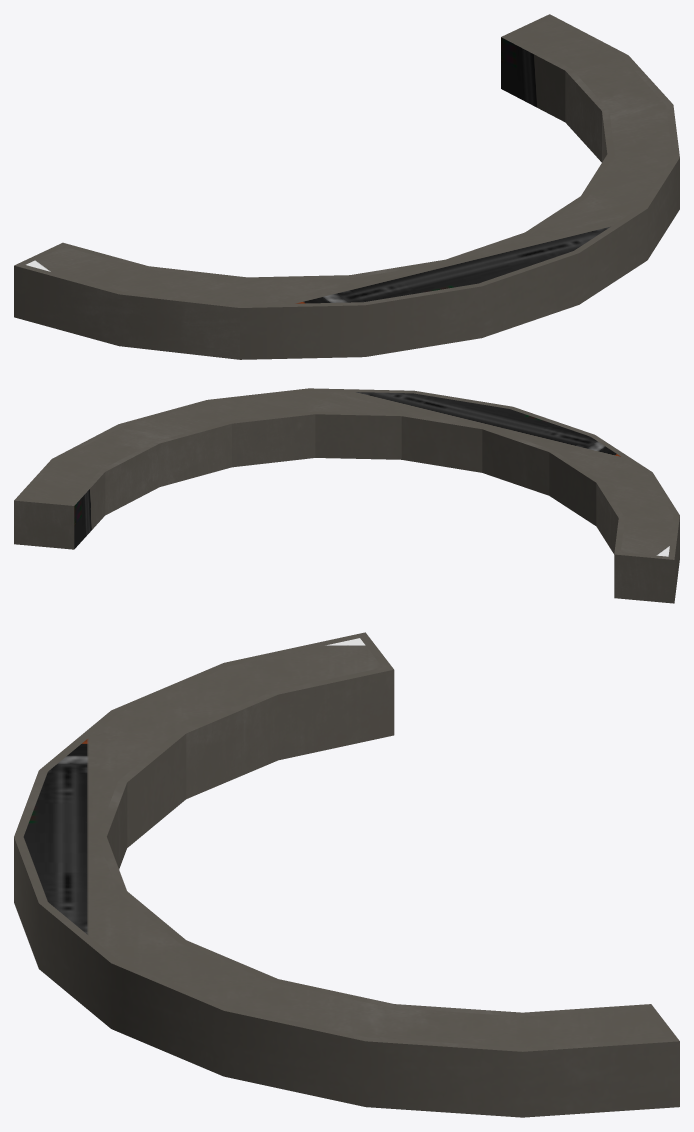
Rendered from light2.fbx.
3 renders of one model, top to bottom at view 1: azimuth 30°, elevation 25°; view 2: azimuth 150°, elevation 25°; view 3: azimuth 270°, elevation 25°, orthographic. The views are drawn at different scales.
Visible parts, largest first — view 1: lights1; view 2: lights1; view 3: lights1.
Part boxes in pixels (left/top/right/bottom): lights1: left=14, top=14, right=679, bottom=359; lights1: left=14, top=388, right=679, bottom=603; lights1: left=14, top=632, right=679, bottom=1117.
Size of the model in its own units: 20.97 by 1.53 by 14.07.
Materials: 1 (1 with a texture image).
